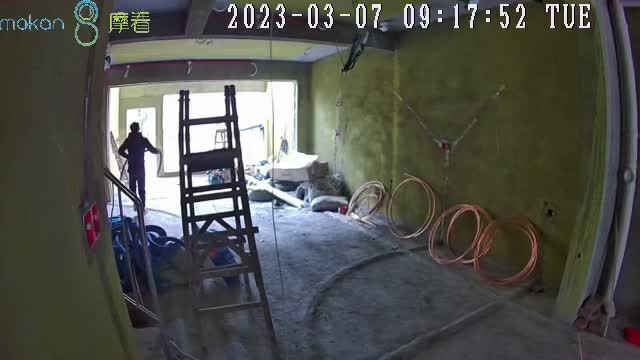people: (118, 122, 159, 214)
window: (164, 94, 246, 169)
